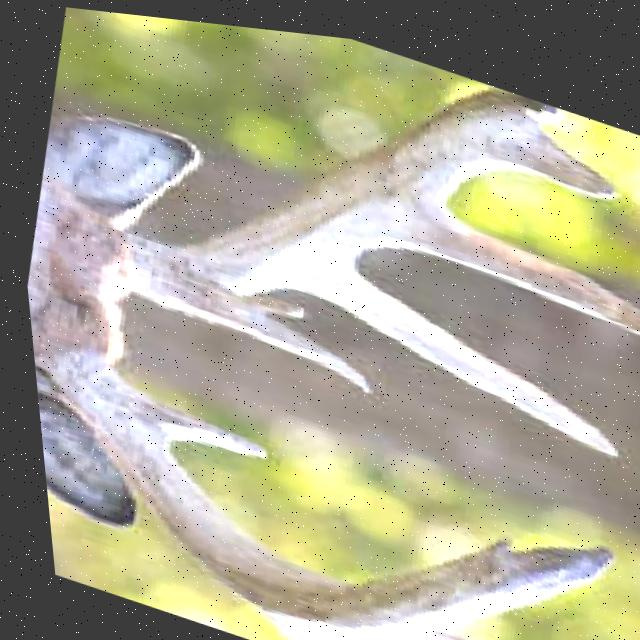E1: (236, 289, 301, 312)
L-F: (105, 73, 557, 314)
L-G1: (186, 280, 368, 390)
L-G2: (300, 256, 614, 445)
L-G3: (408, 197, 640, 322)
L-G4: (500, 108, 613, 182)
R-F: (27, 345, 606, 634)
R-G1: (141, 396, 263, 454)
